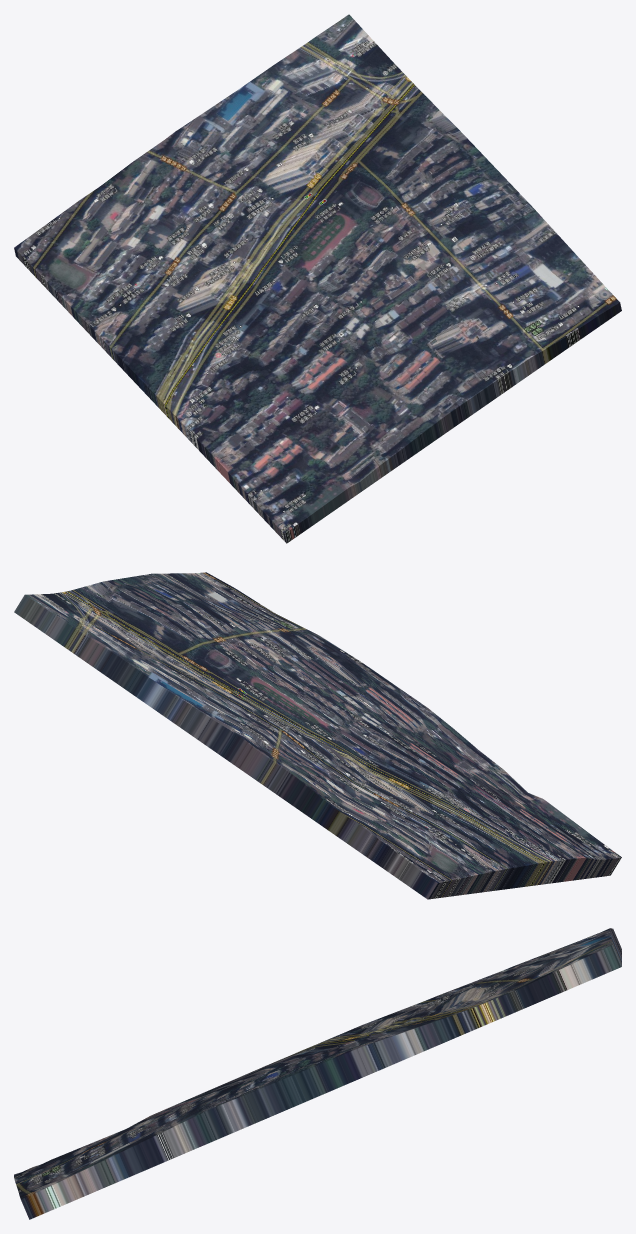
The picture shows the model from 3 angles, top to bottom: view 1: azimuth 30°, elevation 25°; view 2: azimuth 150°, elevation 25°; view 3: azimuth 270°, elevation 25°; orthographic projection. The views are drawn at different scales.
Visible parts, largest first — view 1: 0_9_18; view 2: 0_9_18; view 3: 0_9_18.
Part boxes in pixels (x1,y1,x2,y2): 0_9_18: (14, 14, 621, 543); 0_9_18: (14, 572, 621, 899); 0_9_18: (14, 928, 621, 1219).
Bounding box in the file's own units: 600 × 447 × 556.
1 material, 1 textured.
